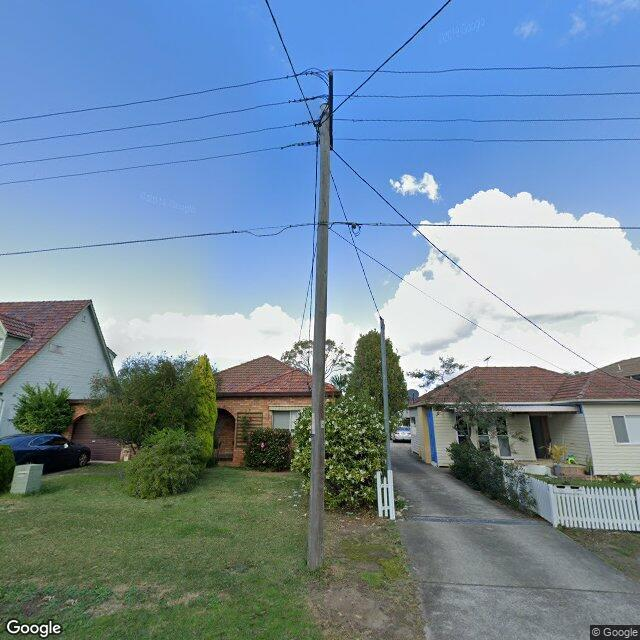crossarm: (328, 72, 334, 149)
steel-pole: (380, 318, 392, 472)
timber-pole: (306, 103, 331, 572)
